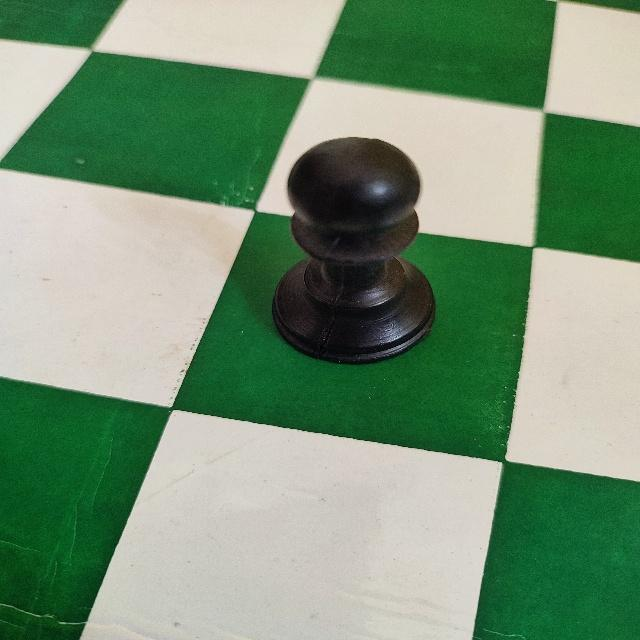Pawn: (268, 134, 438, 368)
